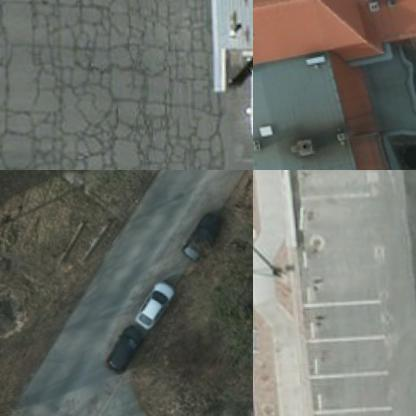car: (176, 207, 216, 263), (130, 277, 172, 325), (102, 316, 138, 372), (242, 61, 252, 136), (392, 136, 415, 168)
